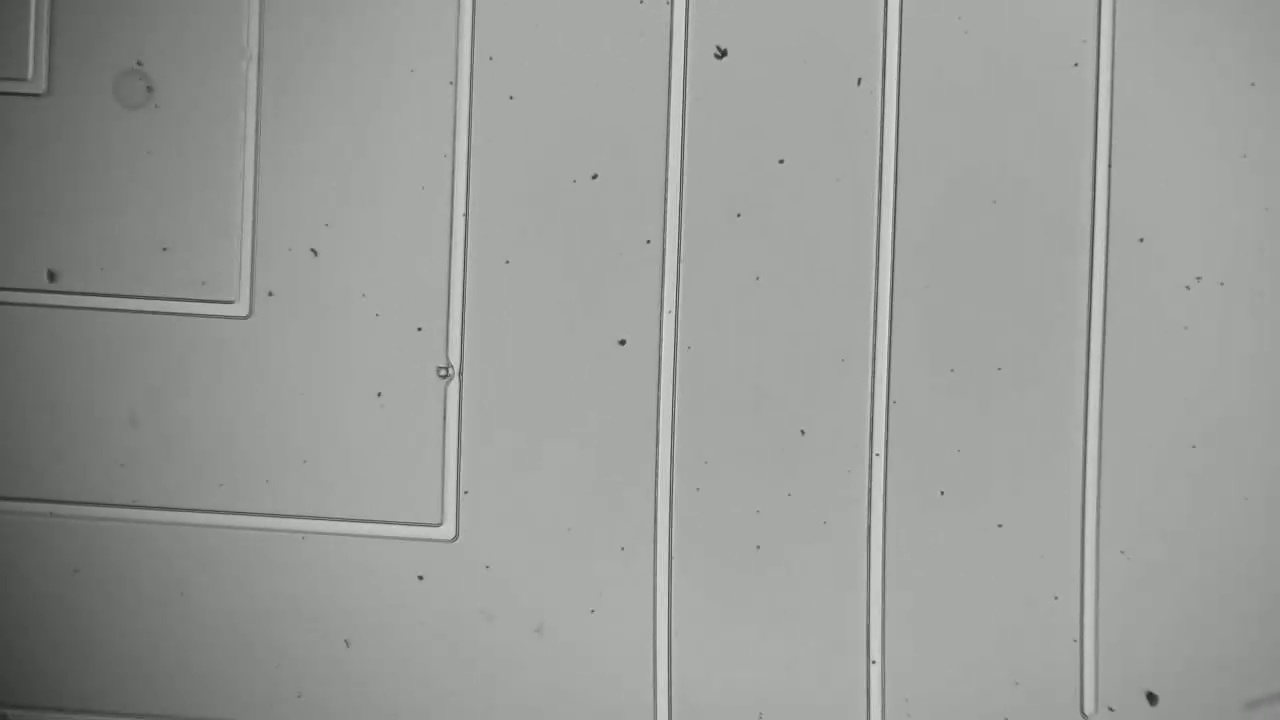edge_bite: (430, 351, 474, 396), (233, 30, 273, 77)
